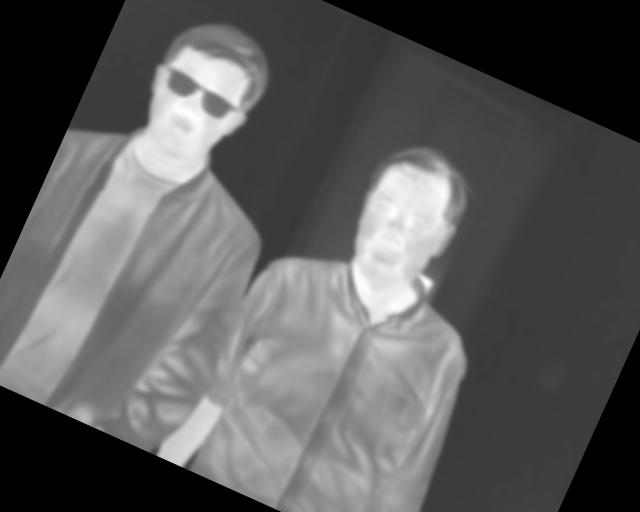face: (123, 3, 283, 183), (331, 129, 485, 306)
